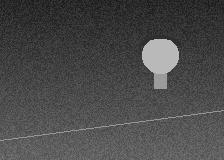no_helmet: (142, 35, 178, 78)
